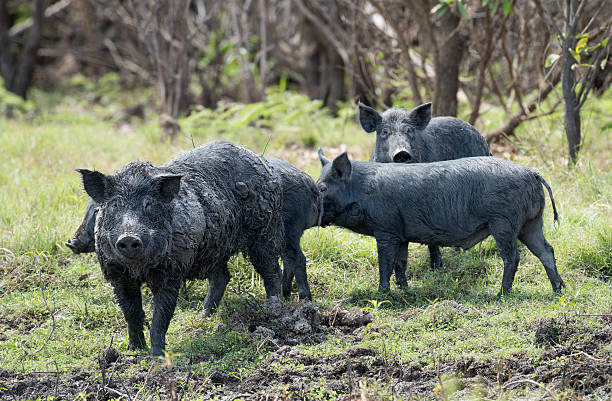pig: (71, 167, 182, 279), (354, 104, 433, 162)
